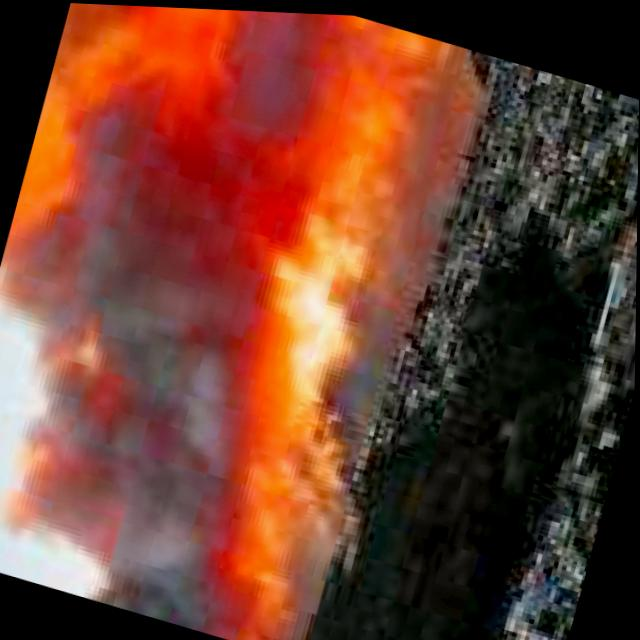smoke: (0, 0, 351, 633)
